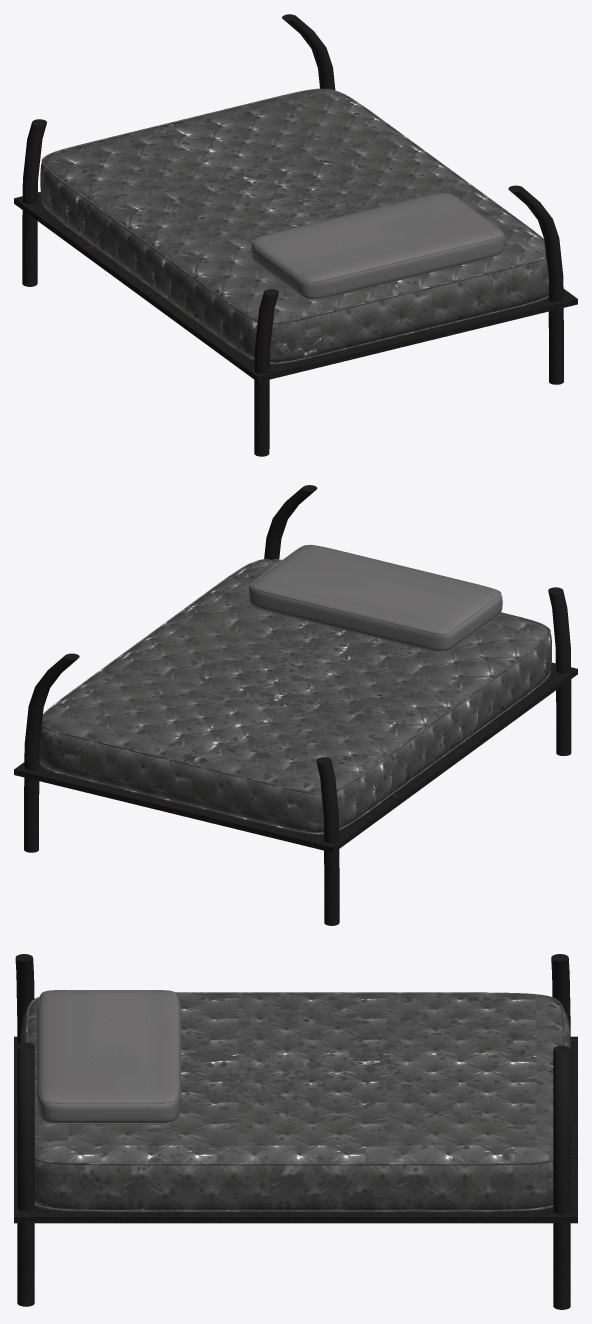
The model's file is Unwrapped_Bed.FBX.
The picture shows the model from 3 angles, top to bottom: view 1: azimuth 30°, elevation 25°; view 2: azimuth 150°, elevation 25°; view 3: azimuth 270°, elevation 25°; orthographic projection. The views are drawn at different scales.
Visible parts, largest first — view 1: Box001, Box003, Box002, Cylinder001, Cylinder002, Cylinder004, Cylinder003; view 2: Box001, Box003, Box002, Cylinder003, Cylinder004, Cylinder002, Cylinder001; view 3: Box001, Box003, Box002, Cylinder003, Cylinder001, Cylinder002, Cylinder004.
Part boxes in pixels (<box>): Box001: <box>40,88,548,364</box>; Box003: <box>251,192,504,300</box>; Box002: <box>14,192,577,382</box>; Cylinder001: <box>508,185,563,384</box>; Cylinder002: <box>254,289,278,456</box>; Cylinder004: <box>22,119,46,286</box>; Cylinder003: <box>282,14,335,90</box>; Box001: <box>39,559,551,834</box>; Box003: <box>249,544,502,652</box>; Box002: <box>14,662,577,852</box>; Cylinder003: <box>24,653,79,852</box>; Cylinder004: <box>316,757,339,925</box>; Cylinder002: <box>548,587,571,755</box>; Cylinder001: <box>264,485,317,559</box>; Box001: <box>20,992,570,1212</box>; Box003: <box>37,990,180,1124</box>; Box002: <box>14,1036,577,1223</box>; Cylinder003: <box>553,1045,570,1309</box>; Cylinder001: <box>17,1042,34,1306</box>; Cylinder002: <box>15,954,34,1043</box>; Cylinder004: <box>551,954,570,1040</box>.
Size of the model in its own units: 62 by 37.55 by 82.
